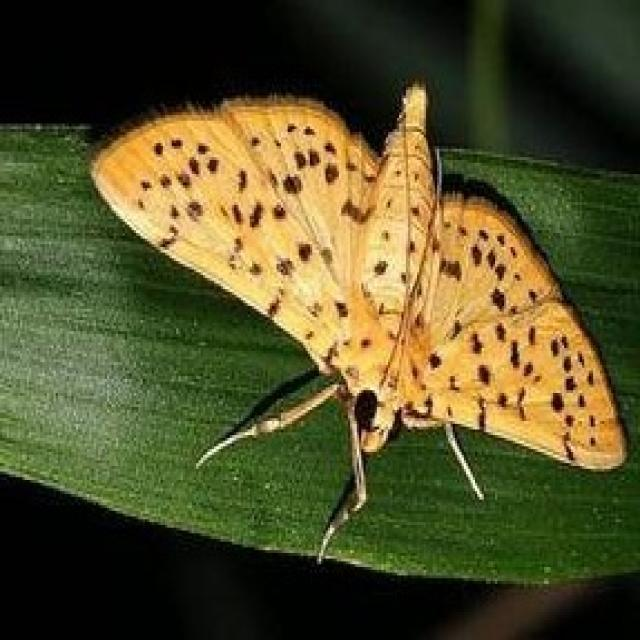peach borer: (91, 77, 629, 565)
